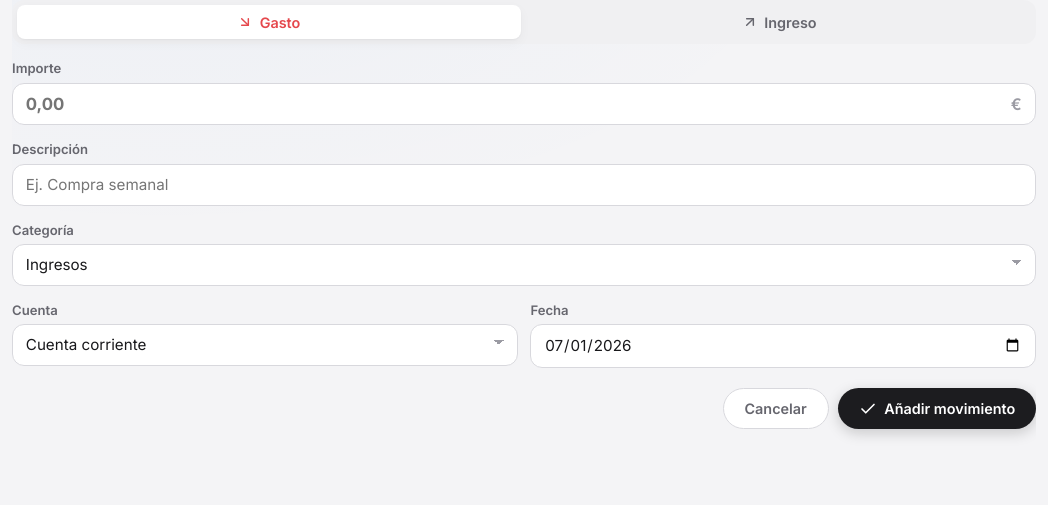
TransactionForm › rejects submission with an empty amount
The image size is (1048, 505).
Click the button "Añadir movimiento" at [937, 409], box [838,388,1036,429]
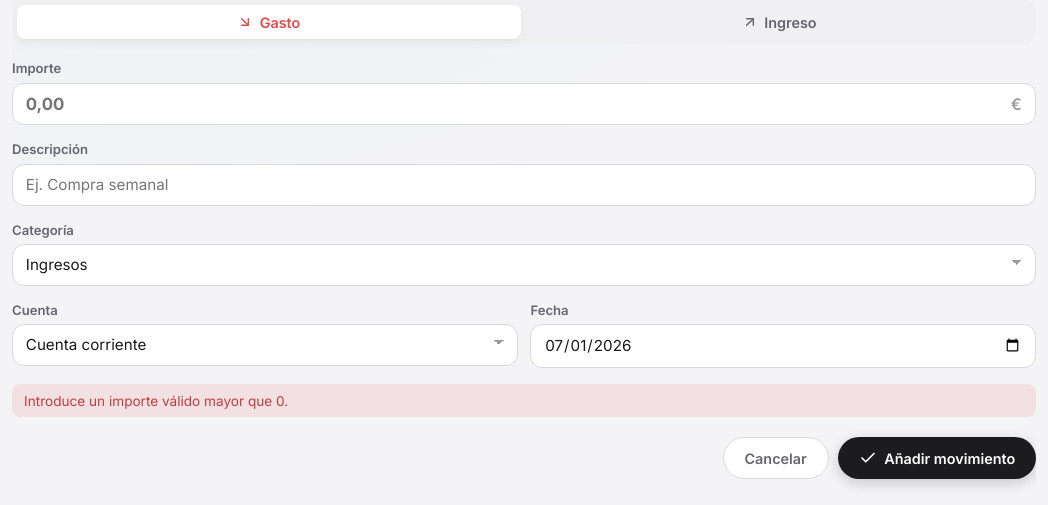
Expected: the text "Introduce un importe válido mayor que 0." is shown, [12,384,1036,418]
